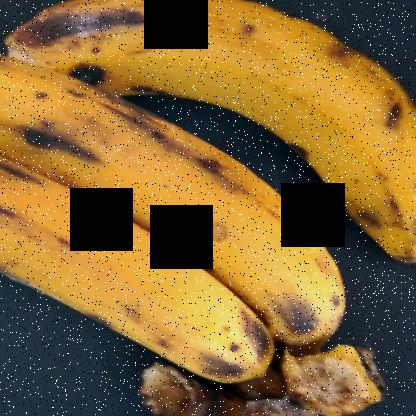overripe: (1, 0, 415, 263), (1, 73, 349, 338), (1, 163, 265, 387)
